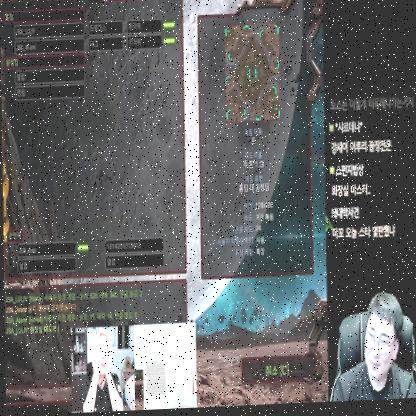streamer: (327, 294, 416, 405), (76, 329, 123, 413)
